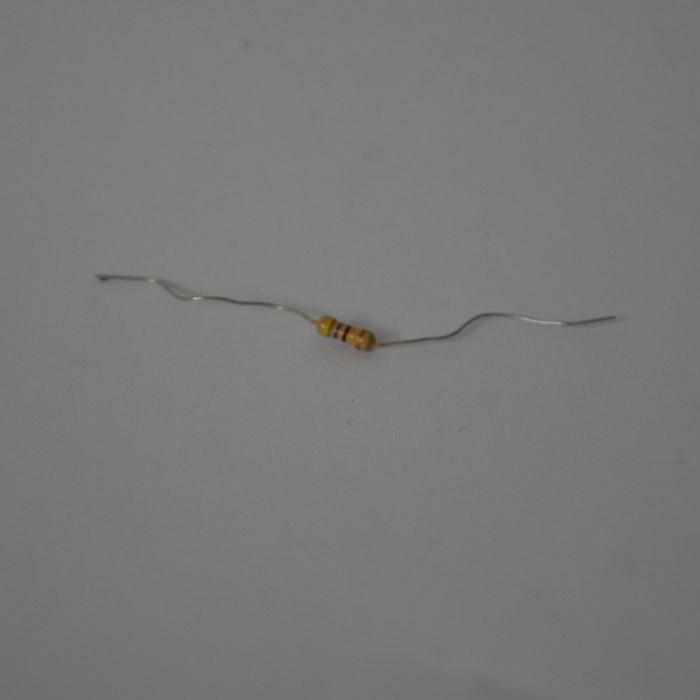resistor: (313, 314, 375, 350)
